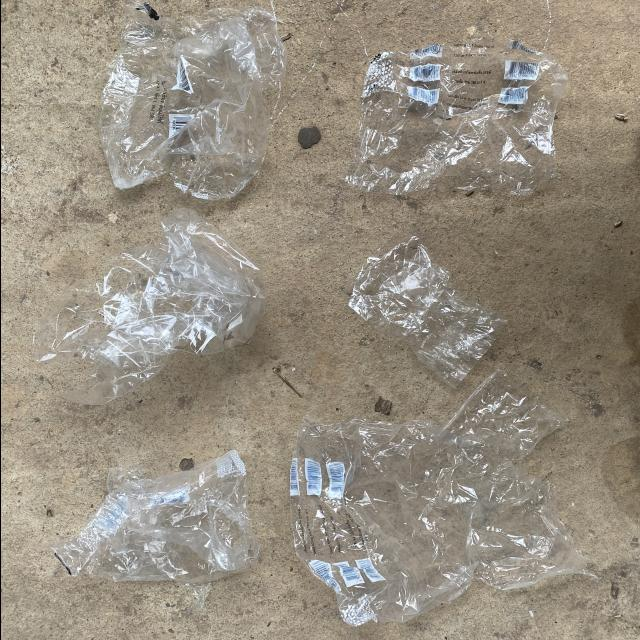plastik: (289, 371, 587, 626), (34, 209, 262, 404), (98, 1, 285, 200), (346, 37, 566, 195), (43, 450, 258, 586), (343, 236, 506, 387)
